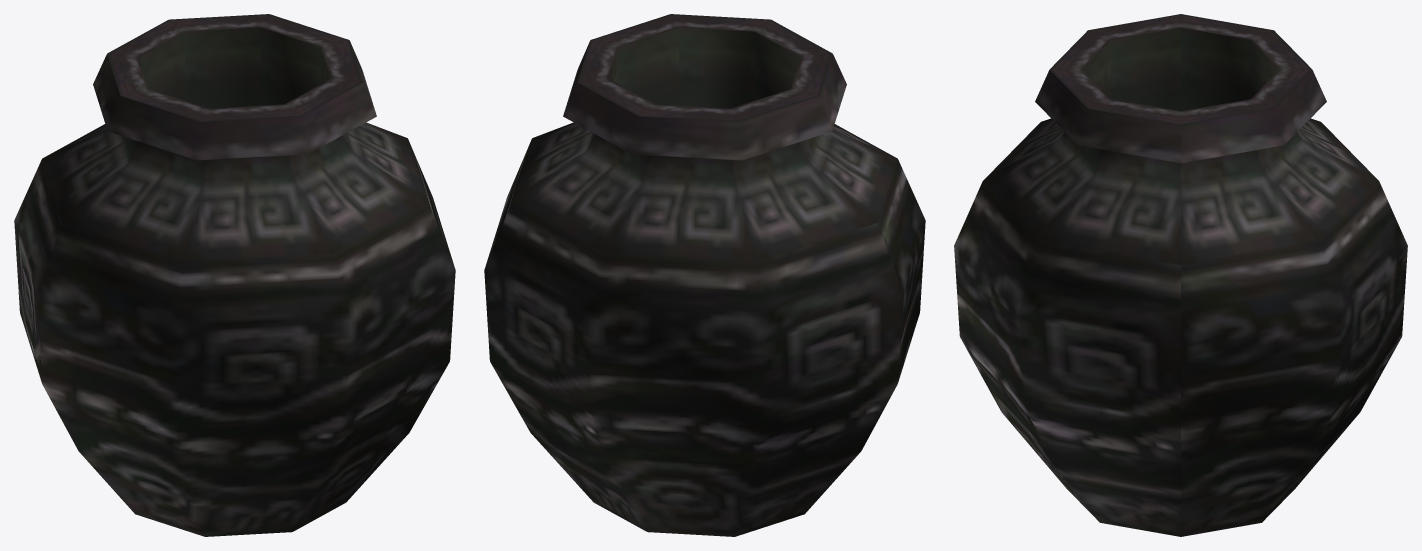
File: o_tubob_lv8.dae
The picture shows the model from 3 angles, left to right: view 1: azimuth 30°, elevation 25°; view 2: azimuth 150°, elevation 25°; view 3: azimuth 270°, elevation 25°; orthographic projection.
Parts seen in each view (by area): view 1: Shape 0; view 2: Shape 0; view 3: Shape 0.
Part boxes in pixels (x1,y1,x2,y2): Shape 0: (14, 14, 455, 536); Shape 0: (484, 14, 925, 536); Shape 0: (954, 14, 1407, 536).
Bounding box in the file's own units: 102 × 104 × 102.
1 material, 1 textured.
